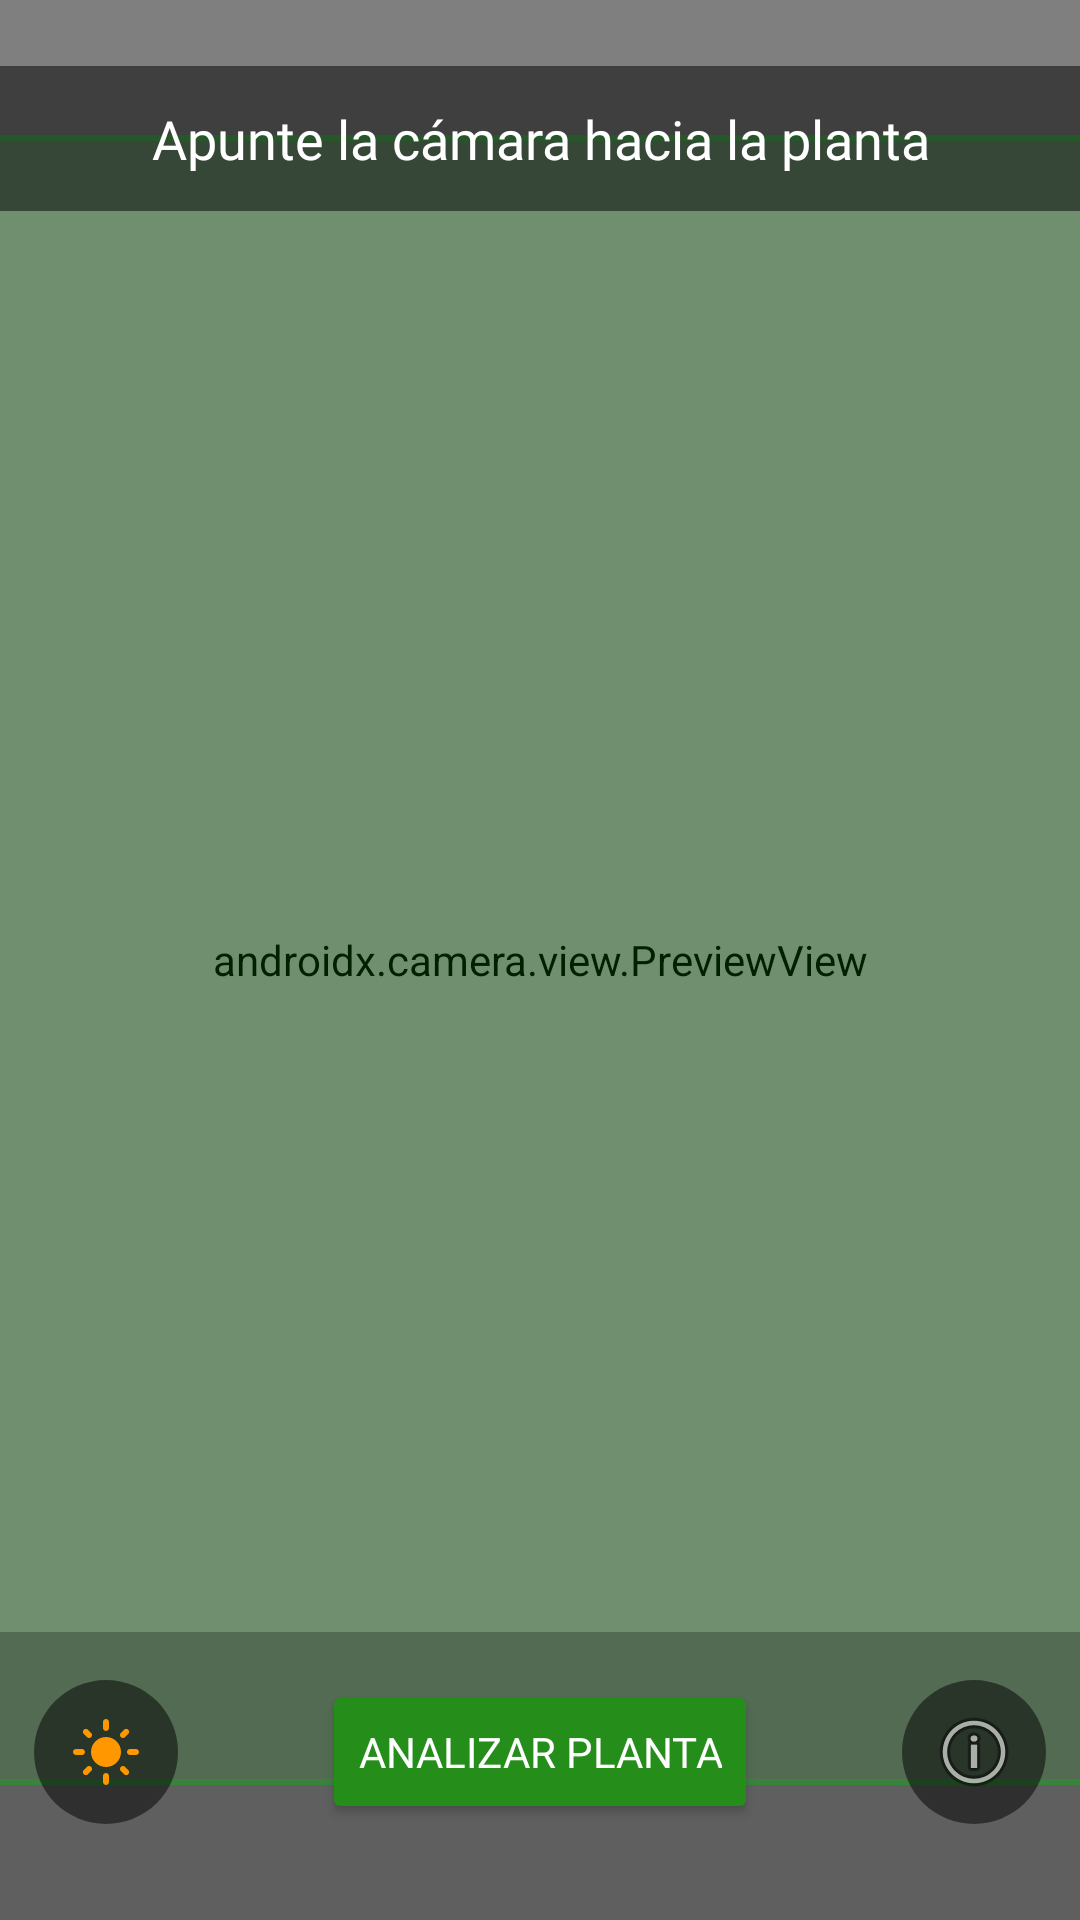

Named icons in this screenshot (1080×1920) and their centers, point (x, y):
Flash: point (106, 1752)
Información: point (974, 1752)
